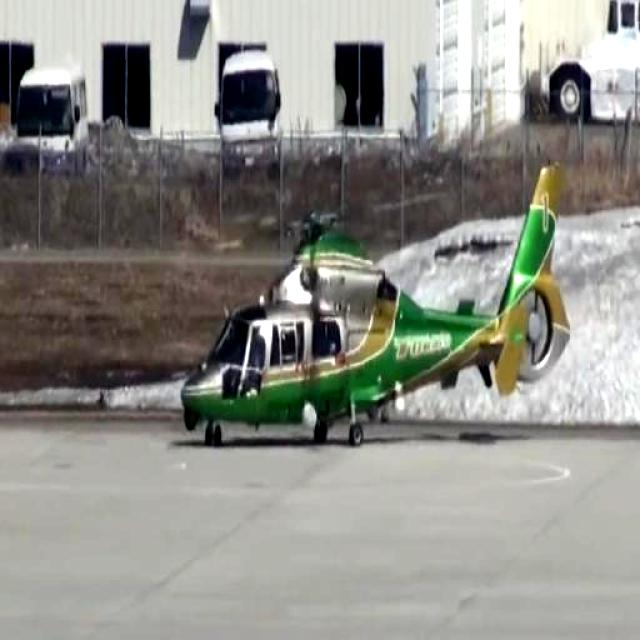drone: (179, 164, 572, 462)
